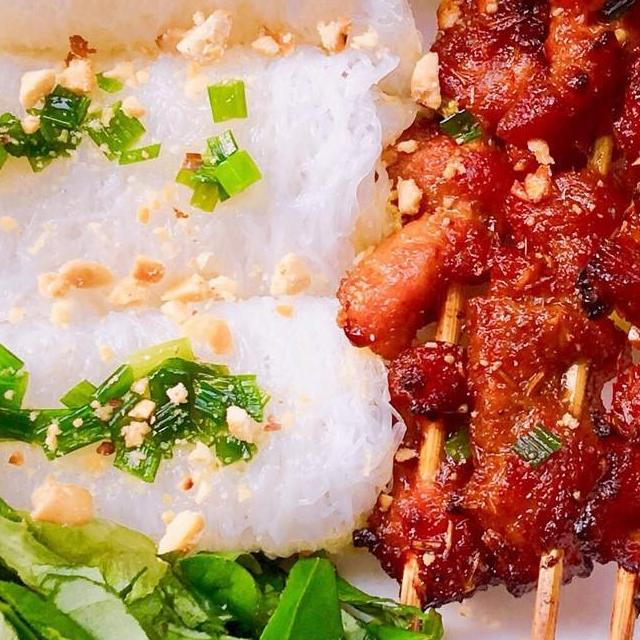banh hoi: (0, 270, 410, 599), (0, 18, 407, 322), (0, 0, 445, 111)
banh hoi heo quay: (0, 0, 640, 640)
